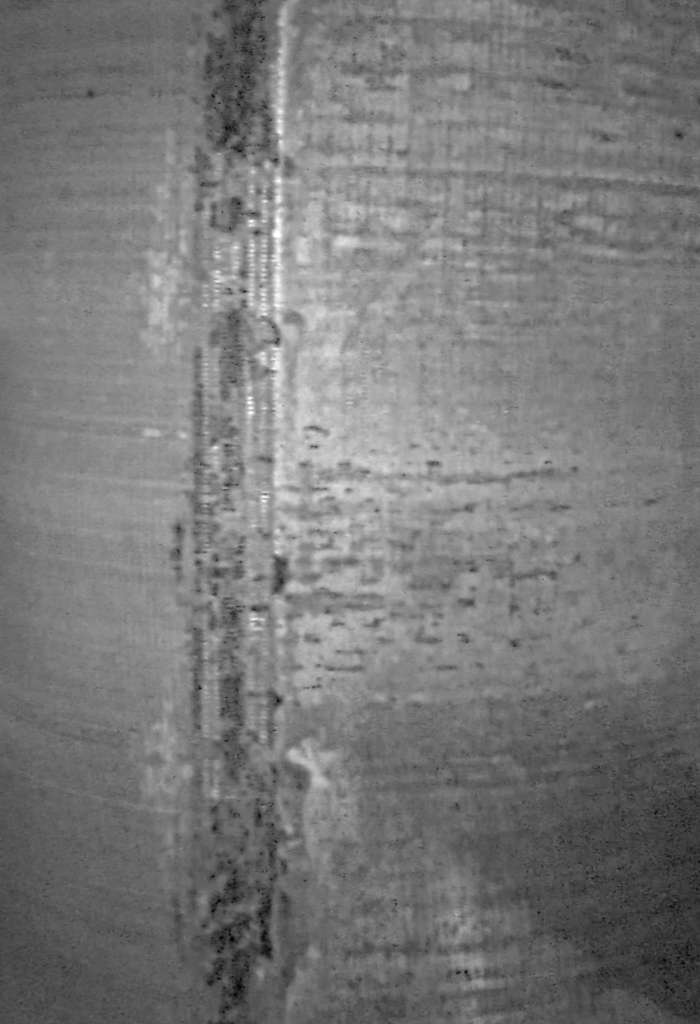splice: (181, 7, 310, 1024)
